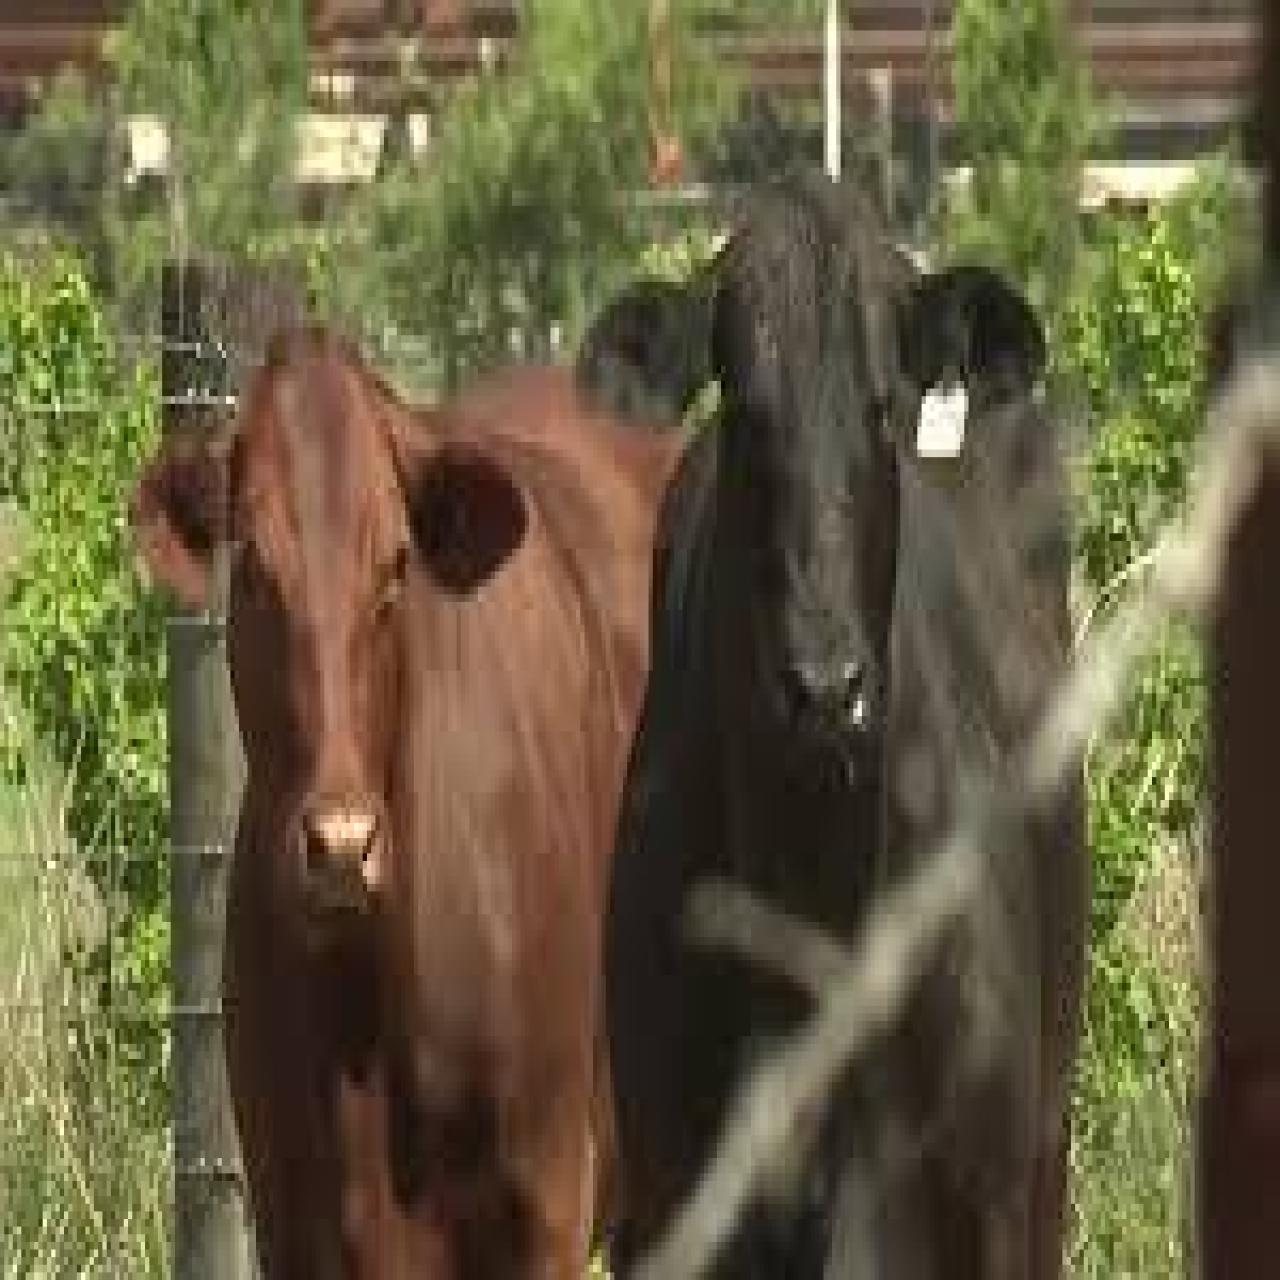cow: (572, 175, 1088, 1280), (125, 320, 715, 1280)
